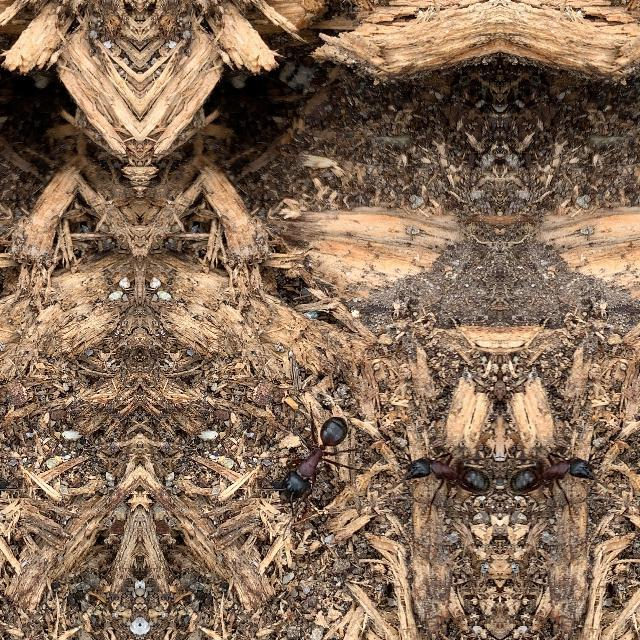Camponotus: (268, 386, 354, 526), (398, 422, 498, 518), (502, 422, 602, 518)
